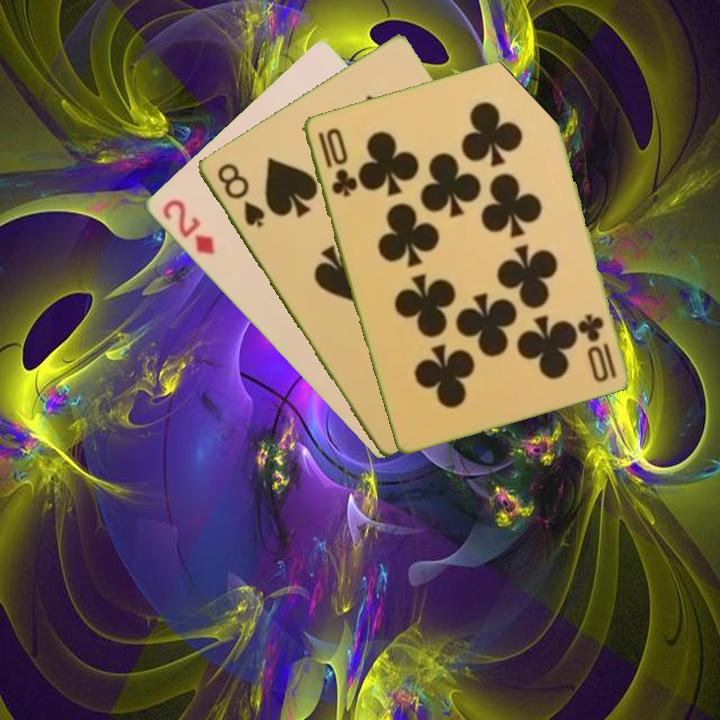10c: (313, 124, 359, 200), (576, 309, 619, 385)
2d: (158, 195, 217, 258)
8s: (213, 159, 268, 231)
